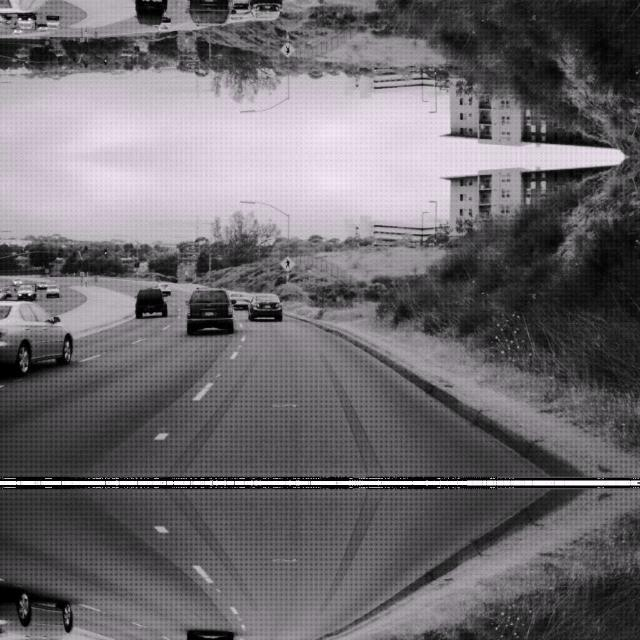pedestrianCrossing: (278, 254, 296, 270), (278, 42, 296, 58)
